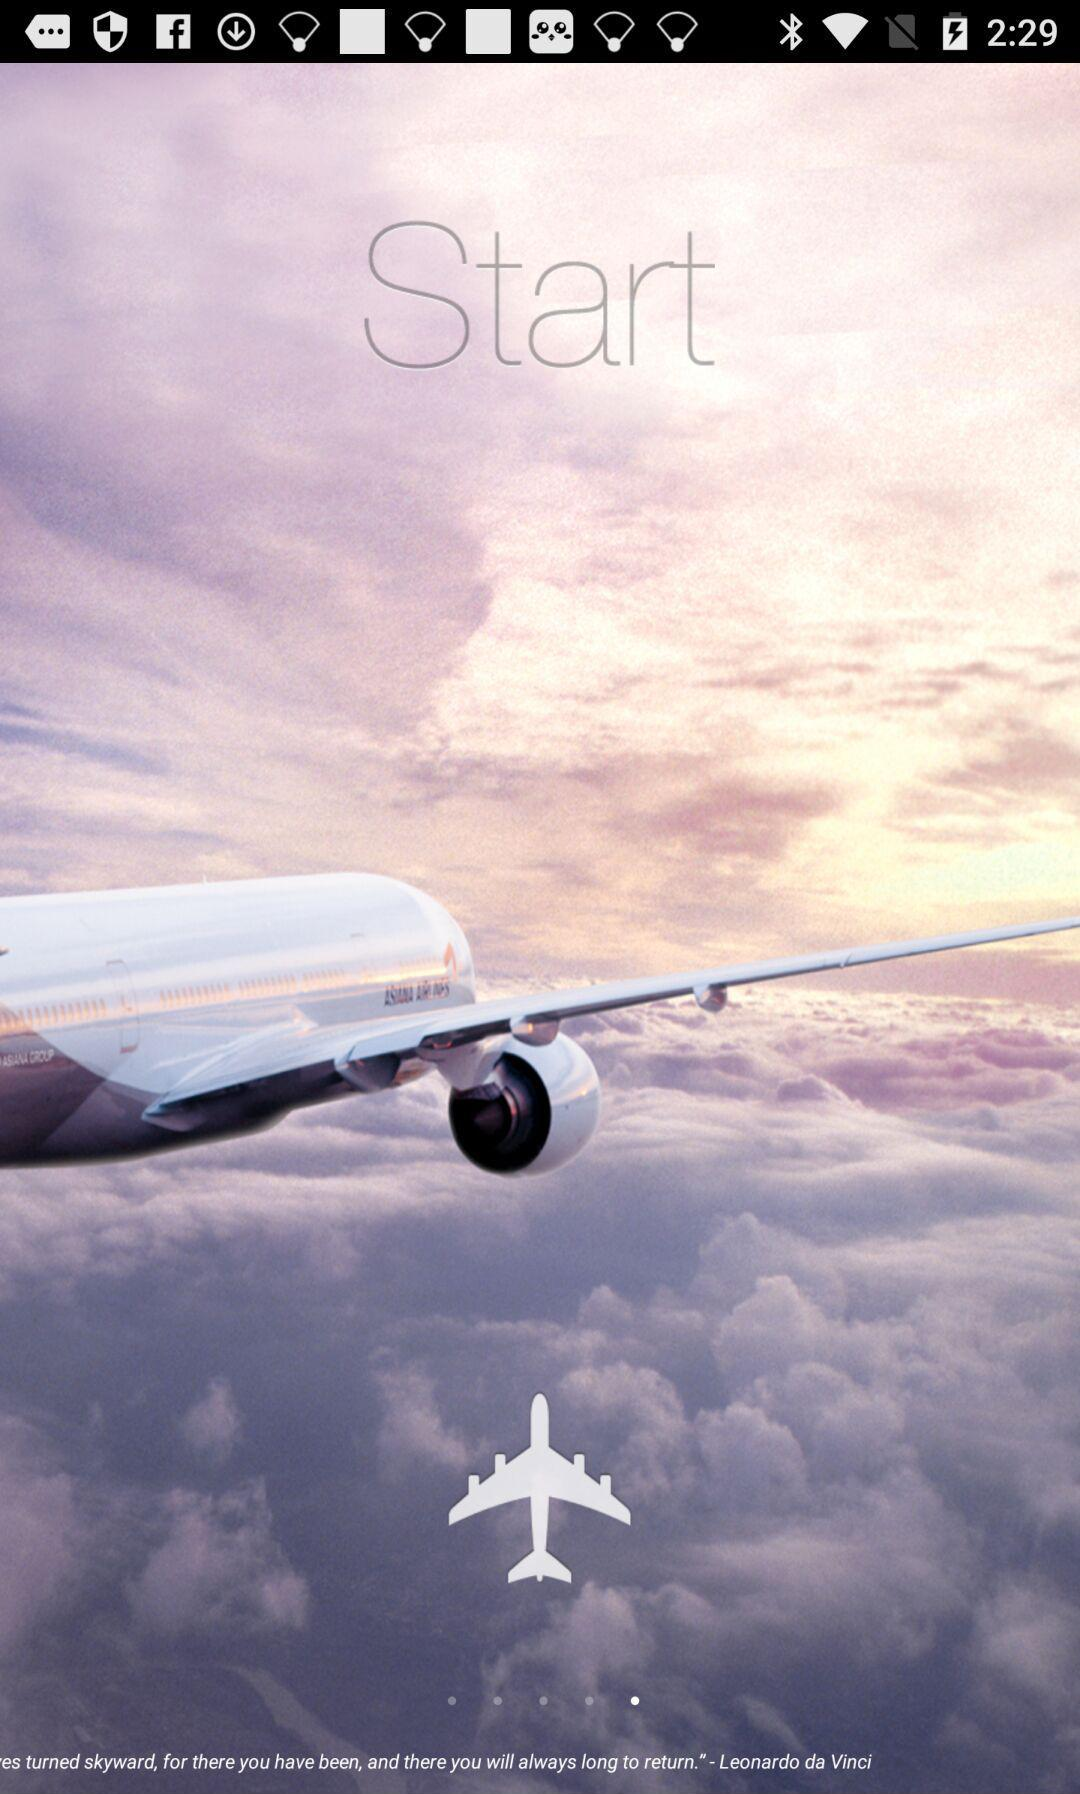BackgroundImage: (1, 64, 1080, 1794)
Image: (447, 1390, 630, 1585)
PageIndicator: (446, 1694, 641, 1708)
Text: (360, 218, 717, 372), (1, 1747, 876, 1773)
UpperTaskBar: (1, 1, 1080, 64)
